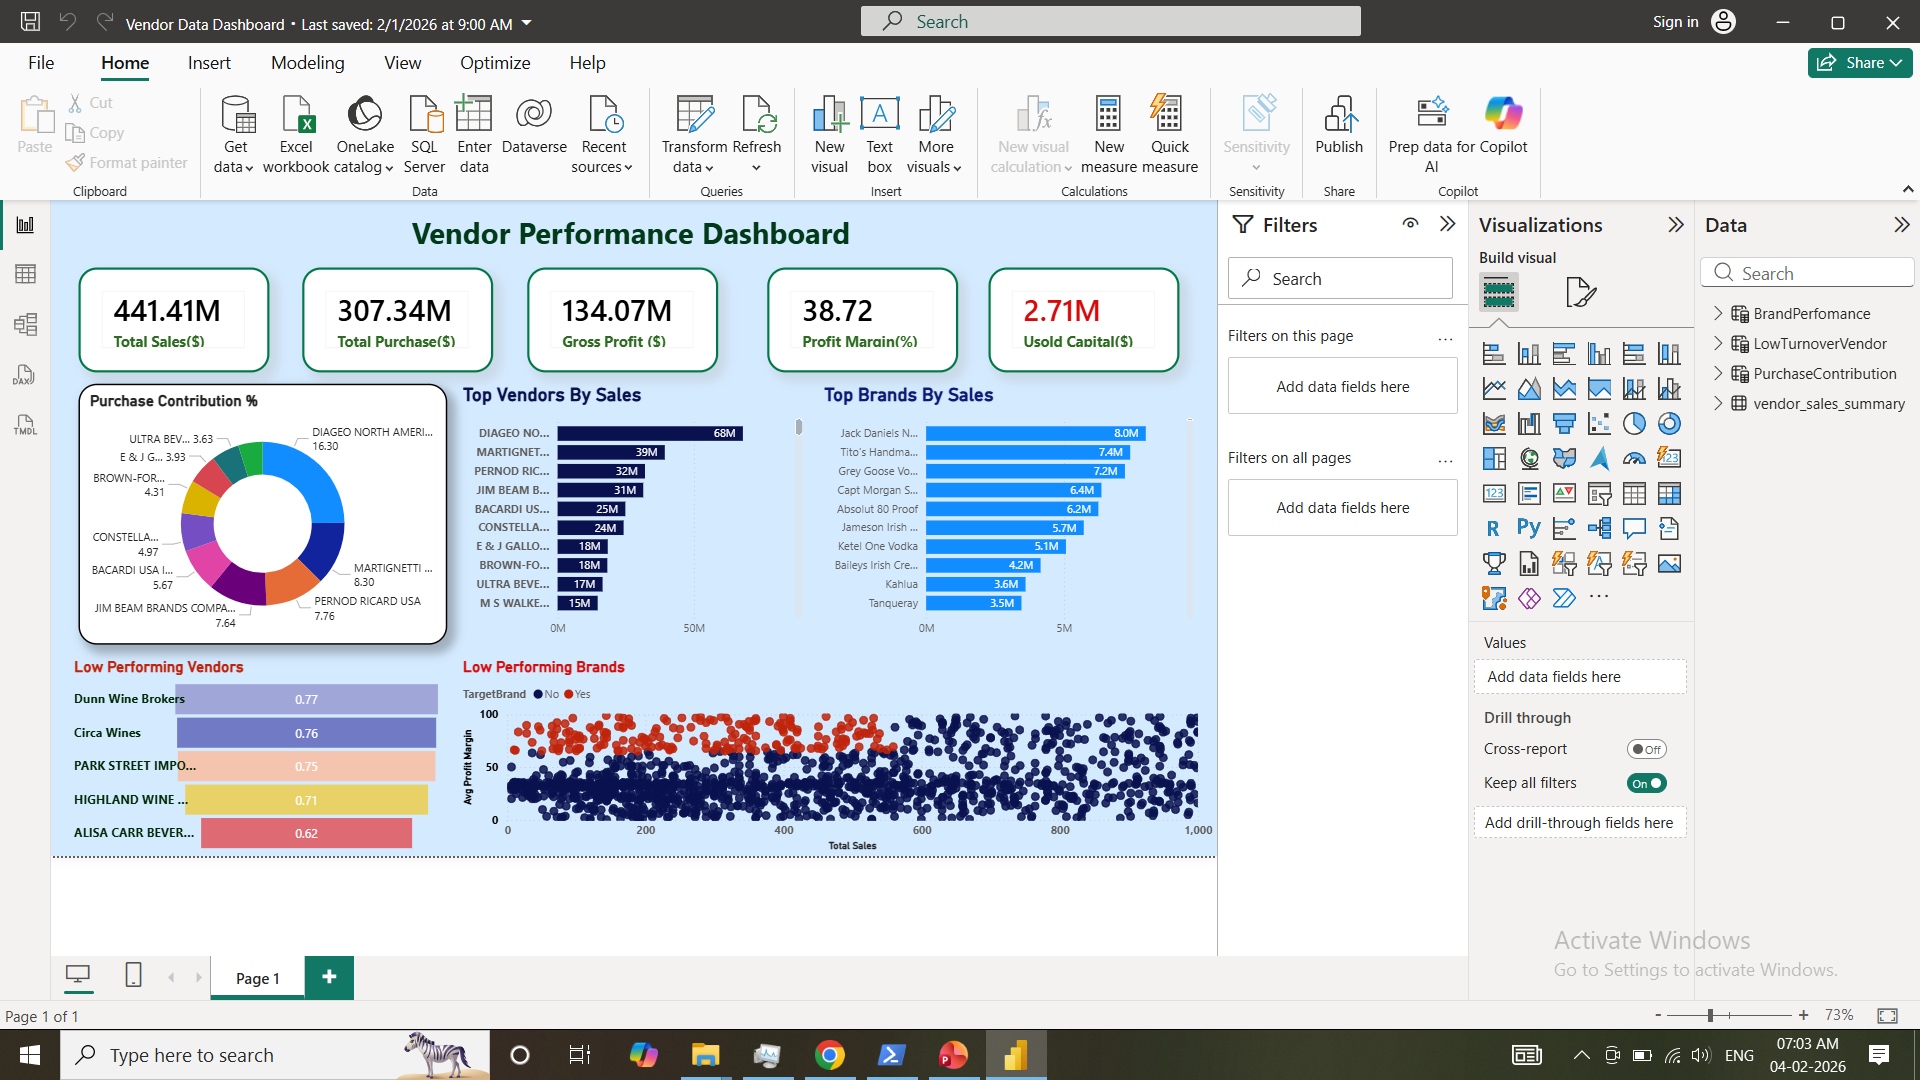

Layout of this report page (visuals, bound fields, positions):
{"tool":"powerbi","page":{"name":"Page 1","canvas":[1280,720],"ordinal":0},"visuals":[{"type":"cardVisual","fields":{"Data":["vendor_sales_summary.TotalSalesDollars"]},"box":[30.2,74.1,209.9,115.3],"z":0},{"type":"cardVisual","fields":{"Data":["vendor_sales_summary.TotalPurchaseDollars"]},"box":[275.8,74.1,209.9,115.3],"z":1000},{"type":"cardVisual","fields":{"Data":["vendor_sales_summary.GrossProfit"]},"box":[522.8,74.1,209.9,115.3],"z":2000},{"type":"cardVisual","fields":{"Data":["vendor_sales_summary.ProfitMargin"]},"box":[786.3,74.1,209.9,115.3],"z":3000},{"type":"cardVisual","fields":{"Data":["vendor_sales_summary.UnsoldInventoryValue"]},"box":[1029.2,74.1,209.9,115.3],"z":4000},{"type":"donutChart","title":"Purchase Contribution % ","fields":{"Category":["PurchaseContribution.VendorName"],"Y":["PurchaseContribution.PurchaseContribution%"]},"box":[30.2,201.7,404.8,286.8],"z":5000},{"type":"barChart","title":"Top Vendors By Sales","fields":{"Category":["vendor_sales_summary.VendorName"],"Y":["vendor_sales_summary.TotalSalesDollars"]},"box":[447.3,201.7,382.8,286.8],"z":6000},{"type":"barChart","title":"Top Brands By Sales","fields":{"Category":["vendor_sales_summary.Description"],"Y":["vendor_sales_summary.TotalSalesDollars"]},"box":[843.9,201.7,415.8,286.8],"z":7000},{"type":"funnel","title":"Low Performing Vendors","fields":{"Category":["LowTurnoverVendor.VendorName"],"Y":["LowTurnoverVendor.AvgStockTurnOver"]},"box":[20.6,502.2,414.4,218.2],"z":8000},{"type":"scatterChart","title":"Low Performing Brands","fields":{"Category":["BrandPerfomance.Description"],"X":["BrandPerfomance.TotalSales"],"Y":["BrandPerfomance.AvgProfitMargin"],"Series":["BrandPerfomance.TargetBrand"]},"box":[447.3,502.2,832.9,218.2],"z":9000},{"type":"textbox","box":[391.1,9.6,500.9,54.9],"z":9001}]}

Visuals, with their boxes on the page's 1280x720 design canvas (x1, y1, x2, y2). These are canvas units, not pixel positions in the 1920x1080 screenshot, which may show the page scaled, cropped or inside an application window:
cardVisual - vendor_sales_summary.TotalSalesDollars: 30/74/240/189
cardVisual - vendor_sales_summary.TotalPurchaseDollars: 276/74/486/189
cardVisual - vendor_sales_summary.GrossProfit: 523/74/733/189
cardVisual - vendor_sales_summary.ProfitMargin: 786/74/996/189
cardVisual - vendor_sales_summary.UnsoldInventoryValue: 1029/74/1239/189
"Purchase Contribution % " donutChart: 30/202/435/488
"Top Vendors By Sales" barChart: 447/202/830/488
"Top Brands By Sales" barChart: 844/202/1260/488
"Low Performing Vendors" funnel: 21/502/435/720
"Low Performing Brands" scatterChart: 447/502/1280/720
textbox: 391/10/892/64
